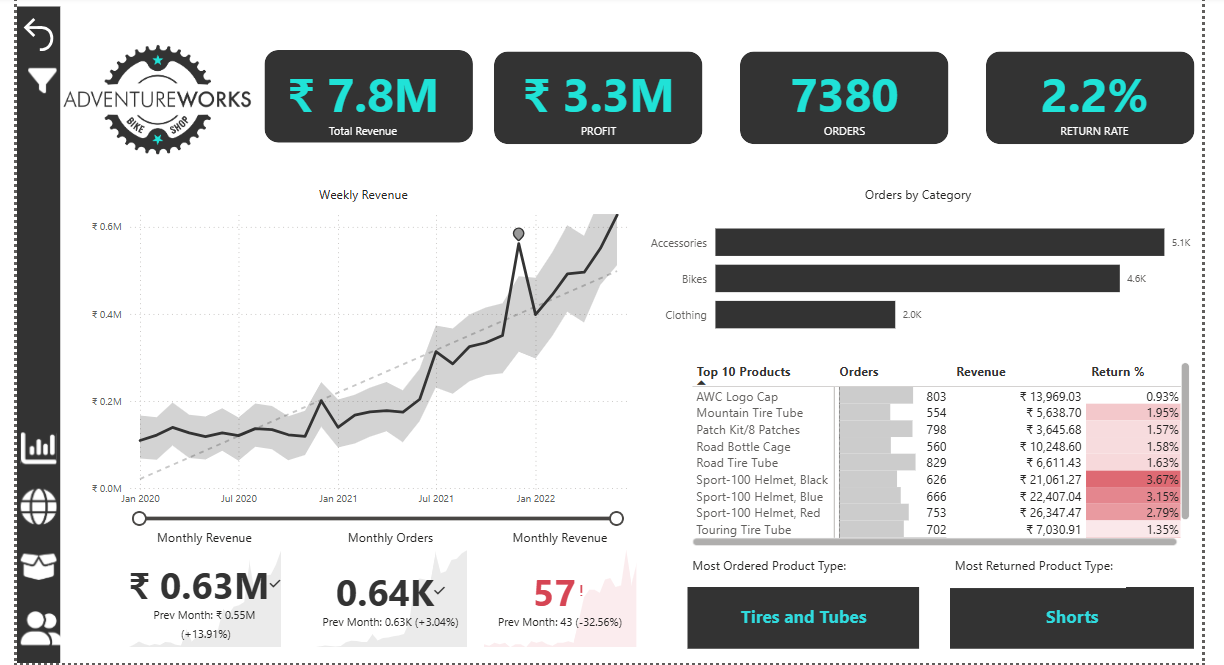

The page's visual inventory and layout, read from the dashboard file:
{"tool":"powerbi","page":{"name":"Executive Dashboard","canvas":[1280,720],"ordinal":0},"visuals":[{"type":"image","title":"AW Logo","box":[23.3,11.7,258.3,201.7],"z":0},{"type":"card","fields":{"Values":["Measure Table.Total Profit"]},"box":[456.7,20,341.7,185],"z":0,"group":"g2"},{"type":"group","id":"g1","title":"KPI background","box":[268.4,59.4,1003.3,101.1],"z":0,"group":"g3"},{"type":"shape","box":[268.4,59.4,225,100],"z":0,"group":"g1"},{"type":"actionButton","box":[0,464.7,58.3,47],"z":0,"group":"g4"},{"type":"shape","title":"Left Nav Background","box":[0,11.3,47,709.2],"z":1000},{"type":"group","id":"g2","title":"KPI Values","box":[202.8,20,1077.2,185],"z":1000,"group":"g3"},{"type":"card","fields":{"Values":["Measure Table.Total Orders"]},"box":[723.4,20,341.7,185],"z":1000,"group":"g2"},{"type":"shape","box":[516.7,60.5,225,100],"z":1000,"group":"g1"},{"type":"actionButton","box":[0,528.4,58.3,47],"z":1000,"group":"g4"},{"type":"group","id":"g3","title":"KPIs","box":[202.8,20,1077.2,185],"z":2000},{"type":"card","fields":{"Values":["Measure Table.Return Rate"]},"box":[1046.7,20,233.3,185],"z":2000,"group":"g2"},{"type":"shape","box":[781.7,60.5,225,100],"z":2000,"group":"g1"},{"type":"actionButton","box":[0,592.1,58.3,47],"z":2000,"group":"g4"},{"type":"card","fields":{"Values":["Measure Table.Total Revenue"]},"box":[202.8,20,341.7,185],"z":3000,"group":"g2"},{"type":"shape","box":[1046.7,60.5,225,100],"z":3000,"group":"g1"},{"type":"lineChart","title":"Weekly Revenue","fields":{"Category":["Calendar Lookup.Date Heirarchy.Start of Month"],"Y":["Measure Table.Total Revenue"]},"box":[74.5,204,599.1,370.8],"z":3000},{"type":"actionButton","box":[0,655.8,58.3,53.4],"z":3000,"group":"g4"},{"type":"kpi","title":"Monthly Revenue","fields":{"Indicator":["Measure Table.Total Revenue"],"TrendLine":["Calendar Lookup.Date Heirarchy.Start of Month"],"Goal":["Measure Table.Previous Month Revenue"]},"box":[115,574.8,174.9,132.8],"z":4000},{"type":"kpi","title":"Monthly Orders","fields":{"TrendLine":["Calendar Lookup.Date Heirarchy.Start of Month"],"Indicator":["Measure Table.Total Orders"],"Goal":["Measure Table.Previous Month Orders"]},"box":[314.9,574.8,174.9,132.8],"z":5000},{"type":"kpi","title":"Monthly Revenue","fields":{"TrendLine":["Calendar Lookup.Date Heirarchy.Start of Month"],"Indicator":["Measure Table.Total Returns"],"Goal":["Measure Table.Previous Month Returns"]},"box":[498.7,574.8,174.9,132.8],"z":6000},{"type":"clusteredBarChart","title":"Orders by Category","fields":{"Category":["Product Categories Lookup.CategoryName"],"Y":["Measure Table.Total Orders"]},"box":[673.3,203.3,598.3,176.7],"z":7000},{"type":"pivotTable","fields":{"Rows":["Product Lookup.ProductName"],"Values":["Measure Table.Total Orders","Measure Table.Total Revenue","Measure Table.Return Rate"]},"box":[723.3,390,546.7,208.3],"z":8000},{"type":"card","fields":{"Values":["Min(Product Subcategories Lookup.SubcategoryName)"]},"box":[723.3,638.3,250,66.7],"z":9000},{"type":"textbox","box":[723.3,598.3,195,40],"z":10000},{"type":"card","fields":{"Values":["Min(Product Subcategories Lookup.SubcategoryName)"]},"box":[1006.7,638.3,263.3,66.7],"z":11000},{"type":"textbox","box":[1006.7,598.3,190,40],"z":12000},{"type":"actionButton","box":[0,11.3,47,59.9],"z":13000},{"type":"group","id":"g4","title":"Navigation buttons","box":[0,464.7,58.3,244.5],"z":14000},{"type":"actionButton","box":[8.1,71.2,38.9,40.5],"z":15000}]}

Visuals, with their boxes on the page's 1280x720 design canvas (x1, y1, x2, y2). These are canvas units, not pixel positions in the 1224x665 screenshot, which may show the page scaled, cropped or inside an application window:
"AW Logo" image: [23, 12, 282, 213]
card - Measure Table.Total Profit: [457, 20, 798, 205]
"KPI background" group: [268, 59, 1272, 160]
shape: [268, 59, 493, 159]
actionButton: [0, 465, 58, 512]
"Left Nav Background" shape: [0, 11, 47, 720]
"KPI Values" group: [203, 20, 1280, 205]
card - Measure Table.Total Orders: [723, 20, 1065, 205]
shape: [517, 60, 742, 160]
actionButton: [0, 528, 58, 575]
"KPIs" group: [203, 20, 1280, 205]
card - Measure Table.Return Rate: [1047, 20, 1280, 205]
shape: [782, 60, 1007, 160]
actionButton: [0, 592, 58, 639]
card - Measure Table.Total Revenue: [203, 20, 544, 205]
shape: [1047, 60, 1272, 160]
"Weekly Revenue" lineChart: [74, 204, 674, 575]
actionButton: [0, 656, 58, 709]
"Monthly Revenue" kpi: [115, 575, 290, 708]
"Monthly Orders" kpi: [315, 575, 490, 708]
"Monthly Revenue" kpi: [499, 575, 674, 708]
"Orders by Category" clusteredBarChart: [673, 203, 1272, 380]
pivotTable - Product Lookup.ProductName x Measure Table.Total Orders: [723, 390, 1270, 598]
card - Min(Product Subcategories Lookup.SubcategoryName): [723, 638, 973, 705]
textbox: [723, 598, 918, 638]
card - Min(Product Subcategories Lookup.SubcategoryName): [1007, 638, 1270, 705]
textbox: [1007, 598, 1197, 638]
actionButton: [0, 11, 47, 71]
"Navigation buttons" group: [0, 465, 58, 709]
actionButton: [8, 71, 47, 112]
